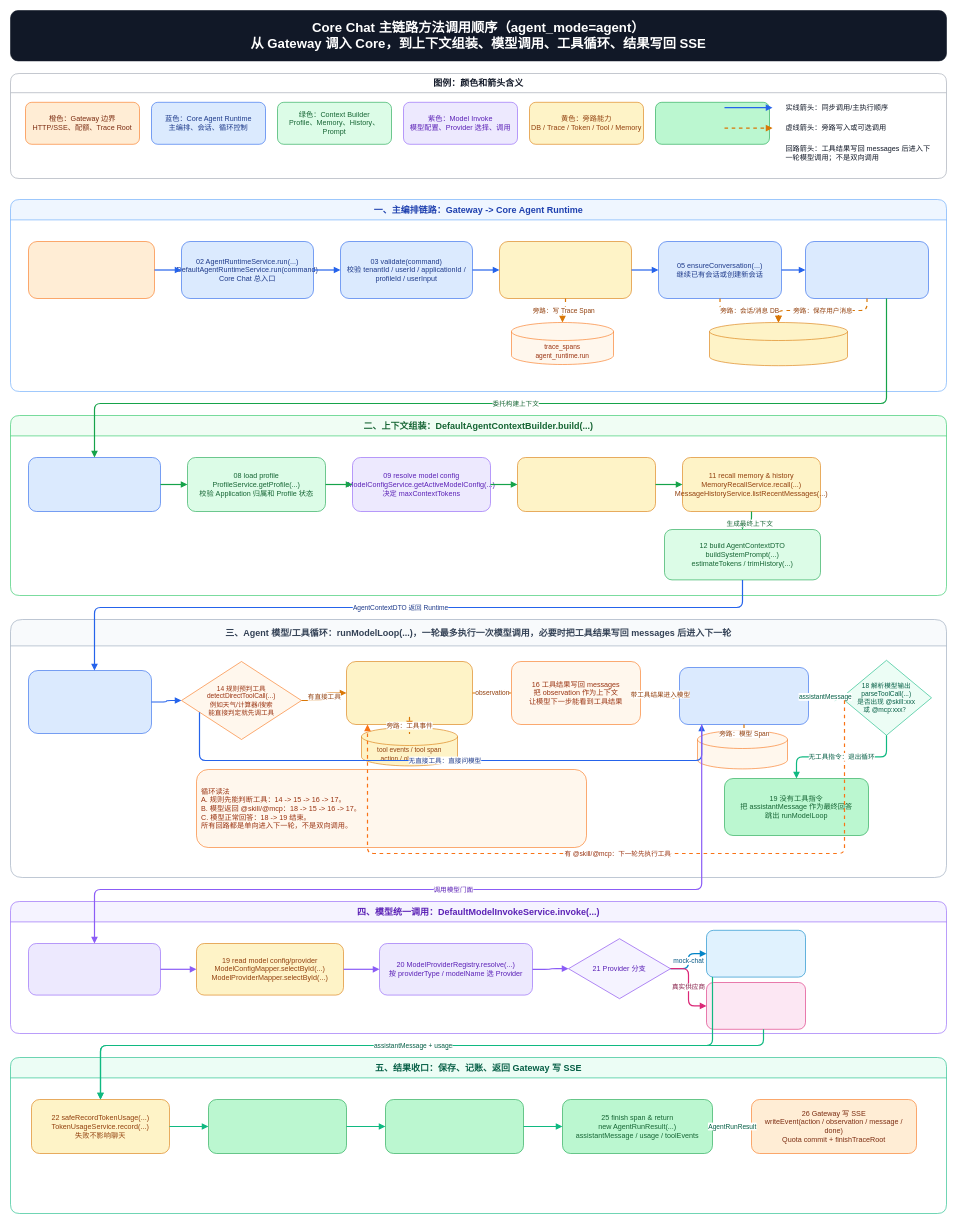
Image size: 957x1224. Some labels were removed from this diagram. The centre of each missing label's shape, as x and y in pixels:
01 Gateway InternalAiController.runChatStream(...) 创建/读取 GatewayContext，调用 Core: the point at 91,269
04 start agent span TraceService.startSpan(agent_runtime.run) 失败不影响聊天主链路: the point at 565,269
06 save user message insertMessage(USER) touchConversation(...): the point at 866,269
07 buildContext(...) DefaultAgentRuntimeService 委托 ContextBuilder: the point at 94,484
10 resolve tools SkillRegistry / McpToolRegistry Profile 绑定 + 本次用户勾选: the point at 586,484
13 进入第 N 轮 runModelLoop(...) 检查是否超过 MAX_AGENT_STEPS 当前已有 messages + toolEvents: the point at 90,702
15 执行工具 executeTool(...) SkillExecutor / McpToolExecutor 得到 observation: the point at 409,692
17 调用模型 invokeModel(...) 打开 model.invoke span 调用 ModelInvokeService: the point at 743,695
18 ModelInvokeService.invoke(...) 模型统一门面: the point at 94,969
21A MockModelProvider modelName = mock-chat 无外网兜底: the point at 756,953
21B OpenAI Compatible POST /chat/completions 解析 choices / usage: the point at 756,1005
23 save assistant message insertMessage(ASSISTANT) touchConversation(...): the point at 277,1126
24 saveMemory(...) MemoryWriteService.record(...) 写长期记忆摘要: the point at 454,1126
conversation / messages DB find / insert / touch: the point at 778,344
trace_spans model.invoke: the point at 742,749
浅绿：返回路径 AgentRunResult -> SSE events: the point at 712,123
